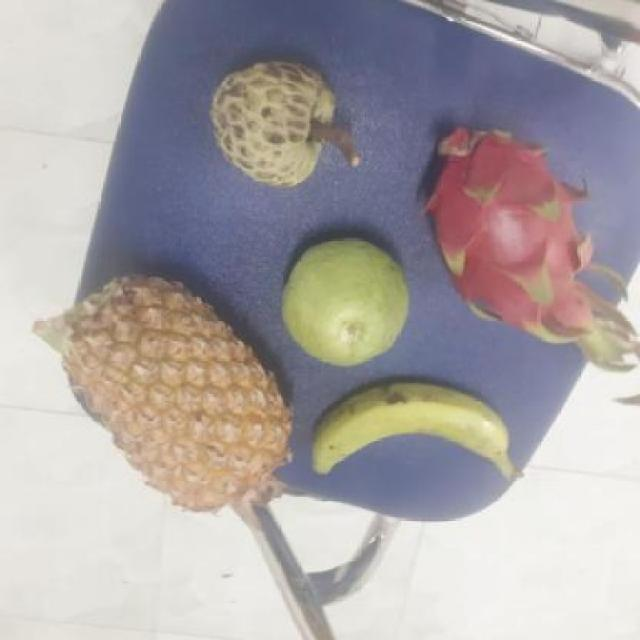banana: (296, 376, 518, 516)
dragon fruit: (415, 126, 596, 329)
guava: (275, 238, 410, 367)
pineapple: (55, 276, 283, 501)
sugar apple: (202, 62, 346, 187)
